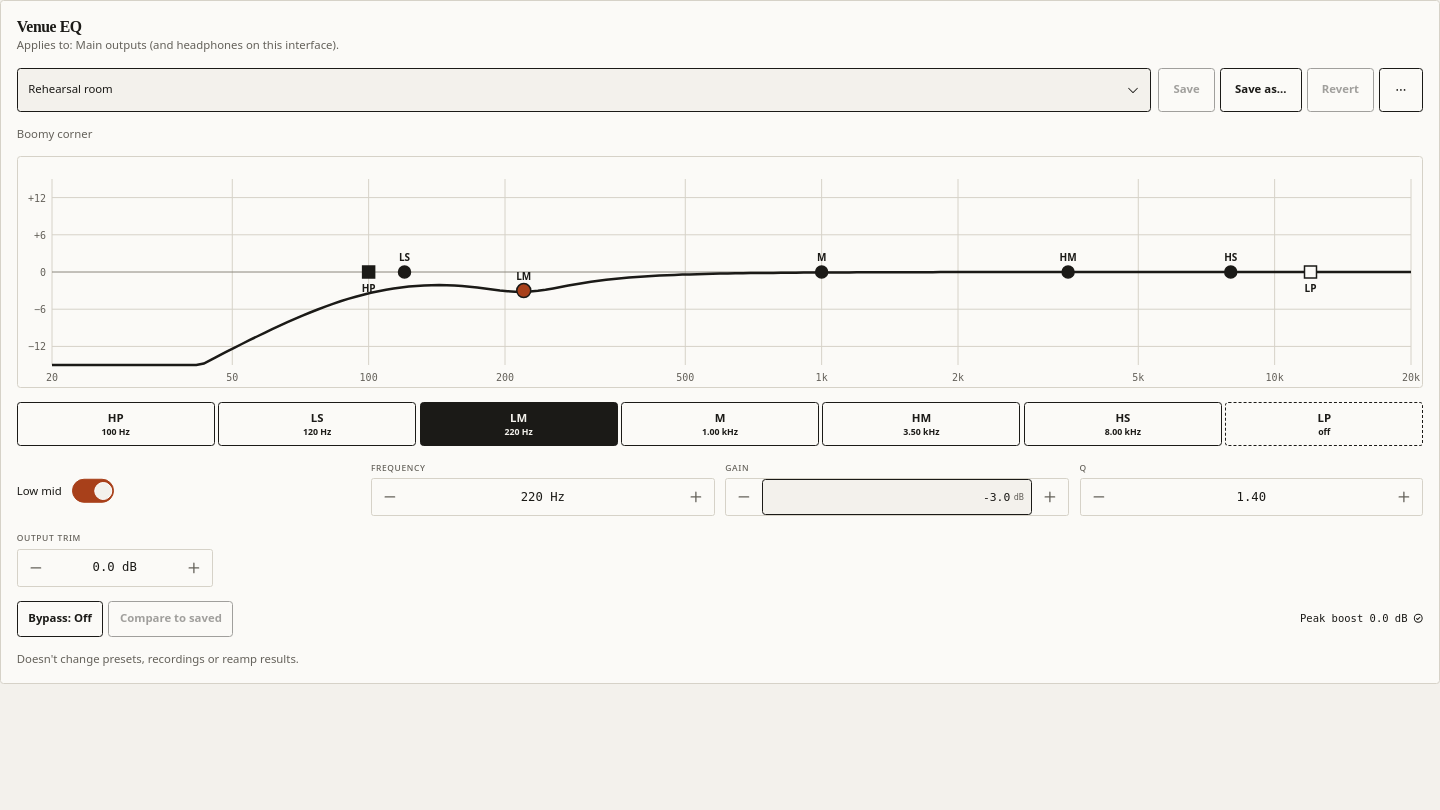
Scenario: shows the other client’s change after a revision conflict
The width and height of the screenshot is (1440, 810).
Expected: the dropdown named "Venue profile" is shown, [17, 68, 1152, 112]
Click the button "Bypass: Off": [60, 619] box [17, 601, 103, 637]
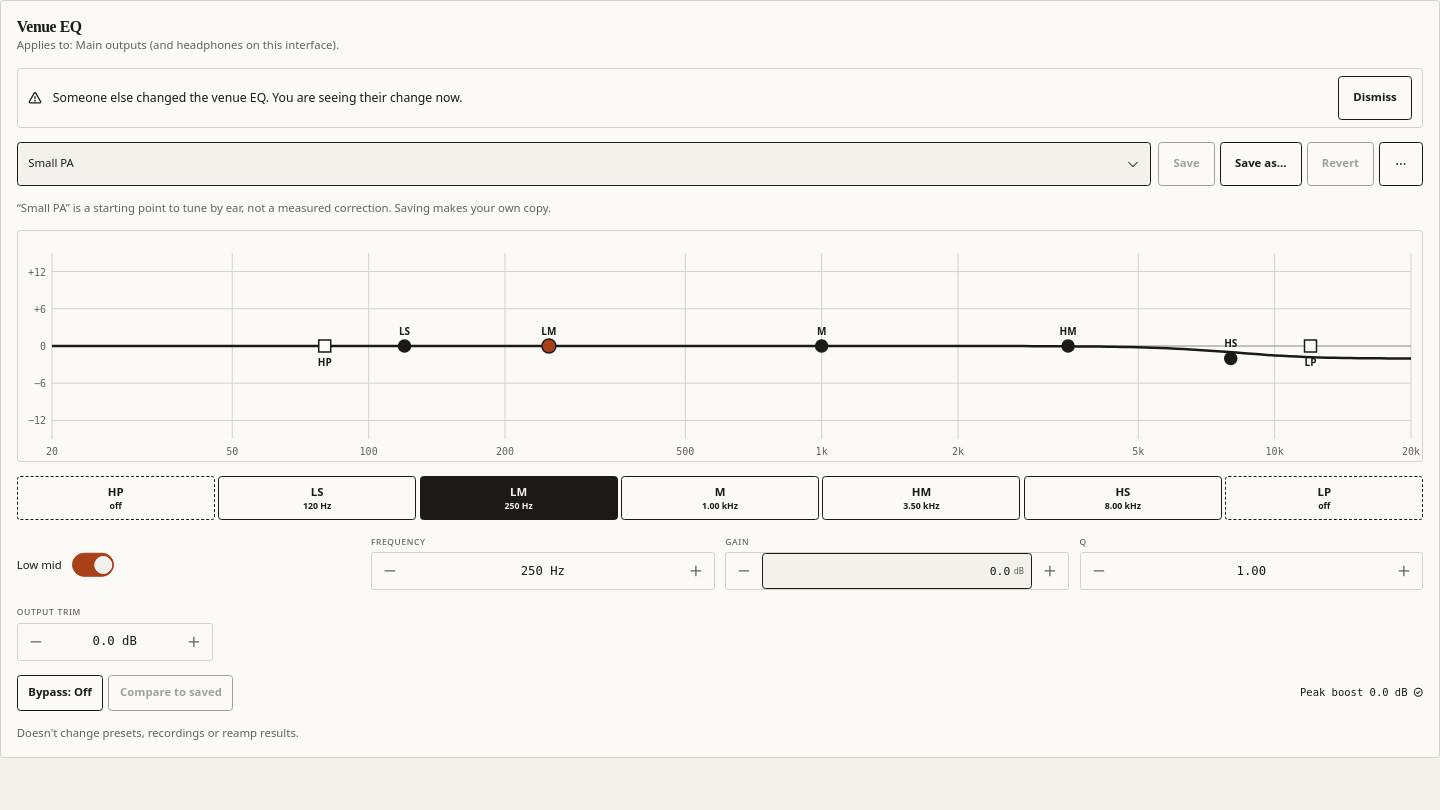
Now the message "Someone else changed the venue EQ. You are seeing their change now. Dismiss" is shown, box [17, 68, 1423, 128]
Now the dropdown named "Venue profile" reads "Small PA", box [17, 142, 1152, 186]
Click the button "Bypass: Off": [60, 693] box [17, 675, 103, 711]
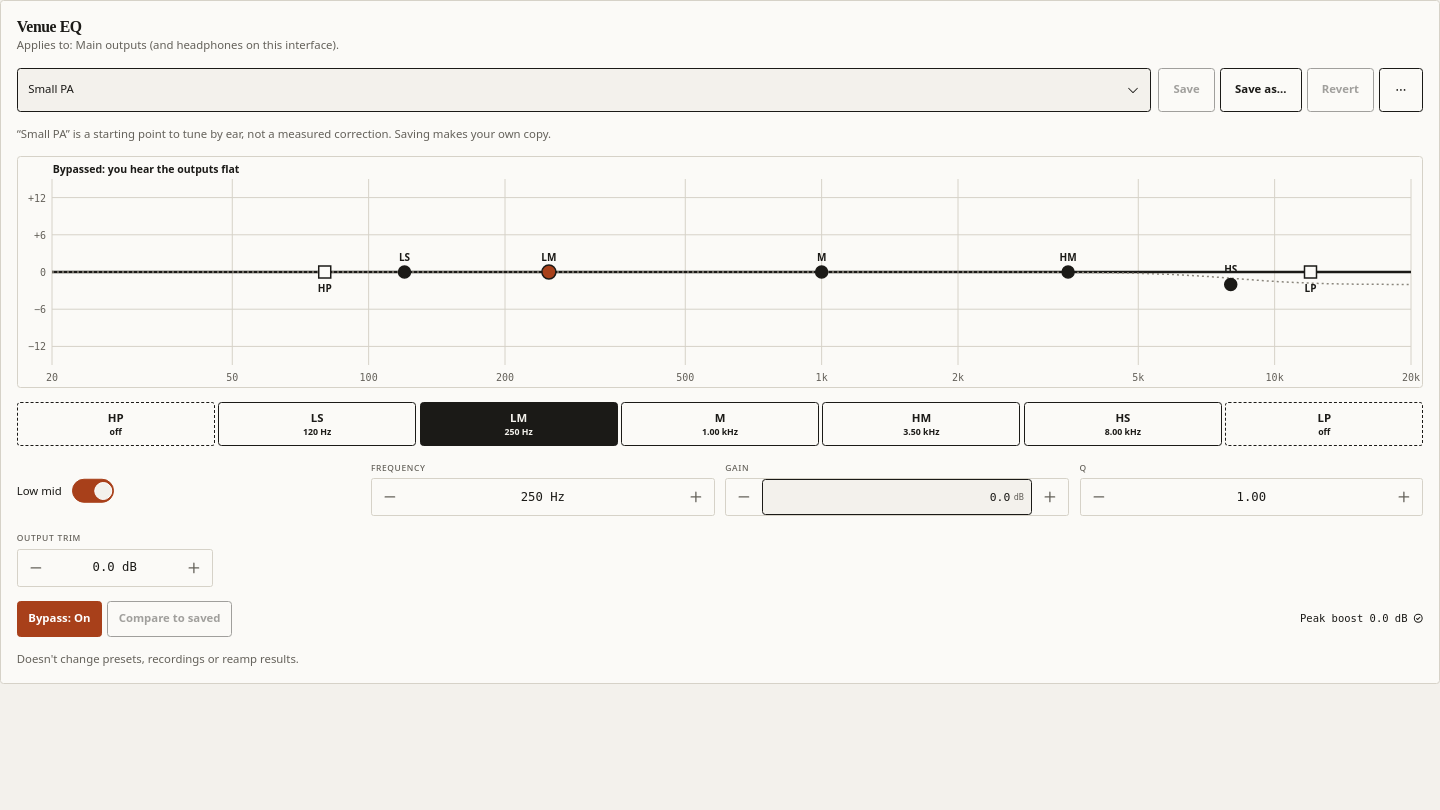
Now the text "Bypassed: you hear the outputs flat" is shown, box [53, 162, 239, 177]
